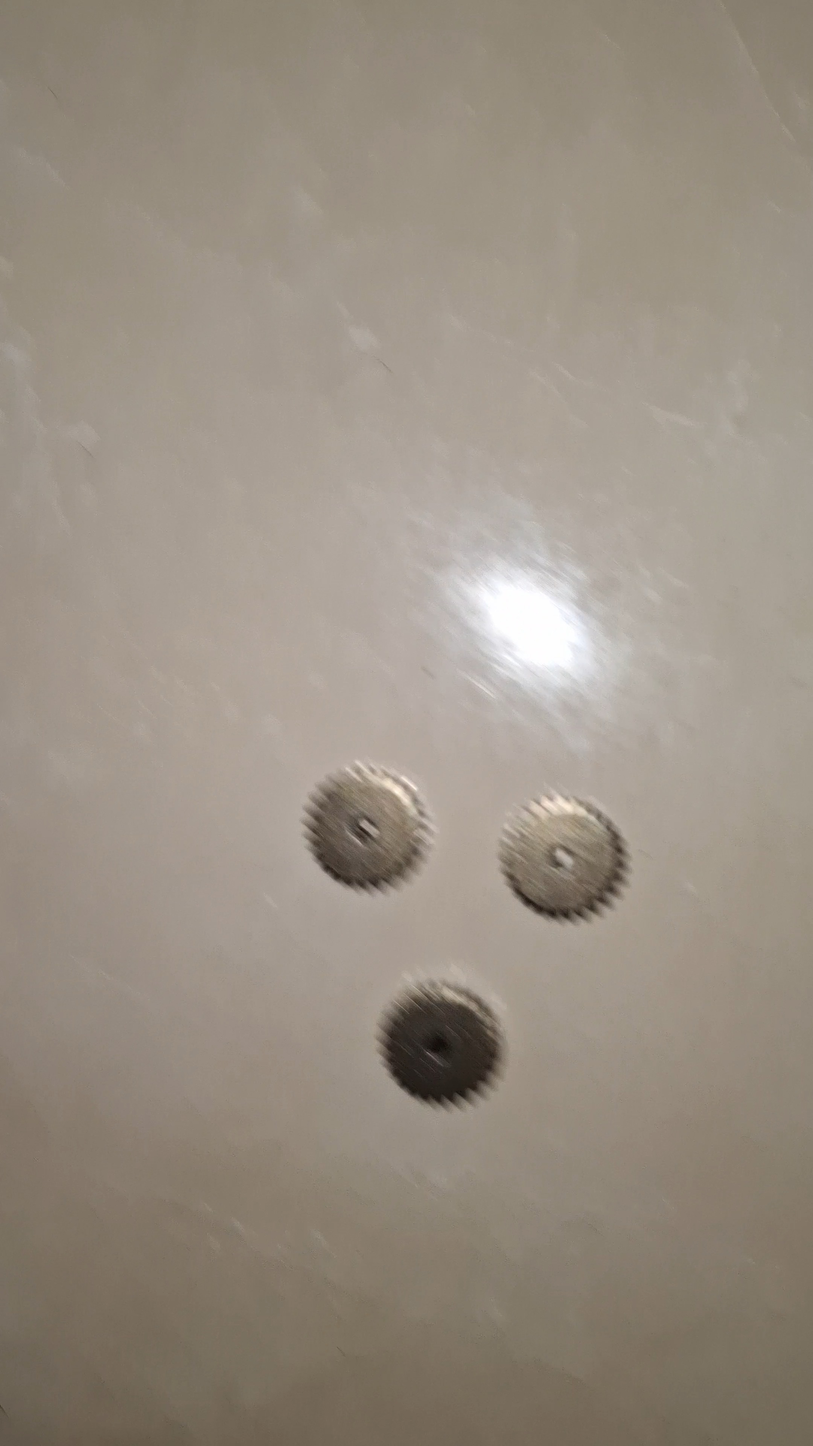spur gear: (499, 794, 627, 921), (379, 981, 505, 1106), (306, 763, 429, 890)
